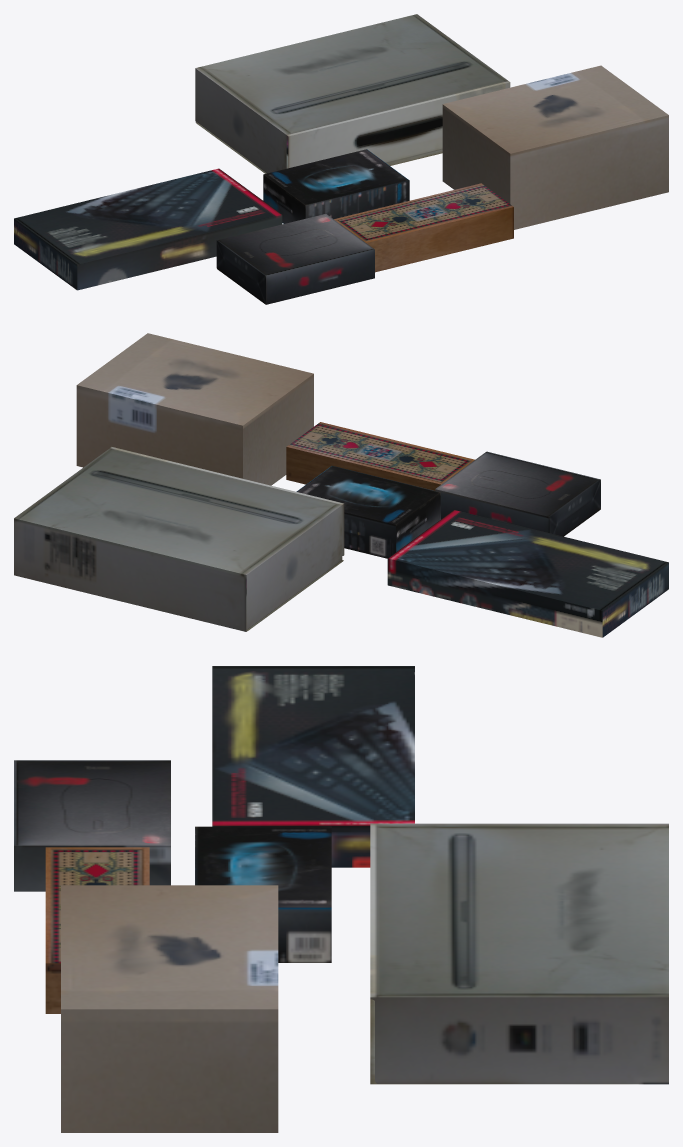
File: SM_BoxCollection.fbx
3 renders of one model, top to bottom at view 1: azimuth 30°, elevation 25°; view 2: azimuth 150°, elevation 25°; view 3: azimuth 270°, elevation 25°, orthographic. The views are drawn at different scales.
Parts seen in each view (by area): view 1: Box 01, Box 02, Box 05, Box 04, Box 06, Box 03; view 2: Box 01, Box 02, Box 05, Box 04, Box 03, Box 06; view 3: Box 01, Box 02, Box 05, Box 04, Box 03, Box 06.
Part boxes in pixels (x1,y1,x2,y2): Box 01: (195, 14, 510, 173); Box 02: (442, 65, 668, 229); Box 05: (14, 168, 282, 290); Box 04: (216, 214, 374, 304); Box 06: (334, 183, 513, 272); Box 03: (263, 149, 409, 223); Box 01: (14, 447, 344, 631); Box 02: (76, 333, 313, 485); Box 05: (387, 510, 668, 637); Box 04: (435, 451, 600, 536); Box 03: (296, 465, 440, 558); Box 06: (286, 422, 474, 490); Box 01: (370, 823, 668, 1084); Box 02: (61, 885, 278, 1132); Box 05: (212, 666, 414, 867); Box 04: (14, 760, 170, 891); Box 03: (195, 826, 331, 962); Box 06: (45, 847, 149, 1013).
Bounding box in the file's own units: 99.49 × 14.1 × 64.71.
